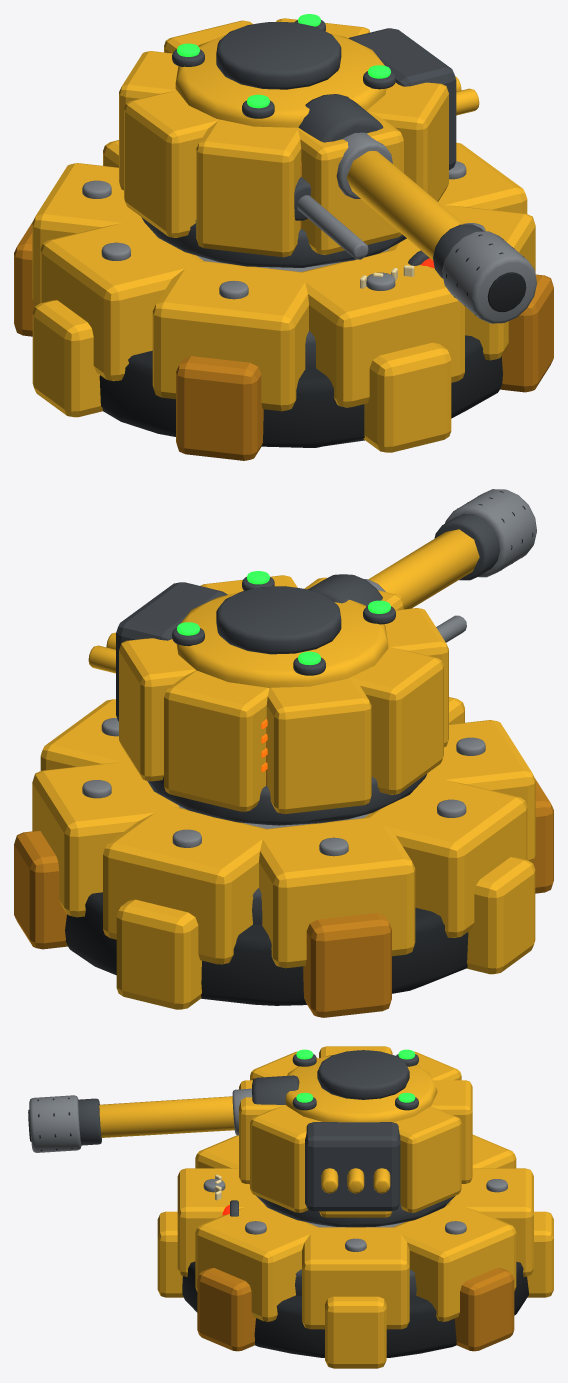
The model's file is ground-turret.glb.
3 views of the same model, one above another, from view 1: azimuth 30°, elevation 25°; view 2: azimuth 150°, elevation 25°; view 3: azimuth 270°, elevation 25° (orthographic). The views are drawn at different scales.
Parts seen in each view (by area): view 1: BaseArmor_01, BaseArmor_00, BaseArmor_02, TurretArmor_01, Base_Foundation, TurretArmor_02, BaseFoot_01, BaseFoot_00, Turret_Roof, Commander_Hatch, BaseFoot_02, TurretArmor_00 (+17 smaller); view 2: BaseArmor_03, BaseArmor_04, BaseArmor_02, TurretArmor_03, TurretArmor_04, Base_Foundation, BaseArmor_05, TurretArmor_02, Turret_Roof, BaseFoot_03, BaseFoot_04, Commander_Hatch (+14 smaller); view 3: BaseArmor_06, BaseArmor_05, BaseArmor_07, AmmoPod, Base_Foundation, TurretArmor_05, TurretArmor_07, Gun_Barrel, BaseFoot_06, Turret_Roof, BaseArmor_04, BaseFoot_05 (+18 smaller).
Boxes of the visible parts, bbox=[...] form: BaseArmor_01: bbox=[152, 261, 308, 411]; BaseArmor_00: bbox=[295, 250, 464, 407]; BaseArmor_02: bbox=[40, 219, 203, 381]; TurretArmor_01: bbox=[196, 119, 301, 257]; Base_Foundation: bbox=[99, 335, 502, 447]; TurretArmor_02: bbox=[124, 90, 218, 237]; BaseFoot_01: bbox=[176, 356, 263, 460]; BaseFoot_00: bbox=[363, 342, 451, 452]; Turret_Roof: bbox=[175, 33, 386, 127]; Commander_Hatch: bbox=[216, 22, 341, 89]; BaseFoot_02: bbox=[32, 300, 102, 417]; TurretArmor_00: bbox=[296, 110, 403, 254]; BaseArmor_03: bbox=[258, 818, 415, 968]; BaseArmor_04: bbox=[103, 806, 272, 964]; BaseArmor_02: bbox=[364, 775, 527, 937]; TurretArmor_03: bbox=[266, 677, 371, 813]; TurretArmor_04: bbox=[164, 670, 269, 811]; Base_Foundation: bbox=[65, 892, 468, 1005]; BaseArmor_05: bbox=[32, 761, 179, 917]; TurretArmor_02: bbox=[350, 647, 443, 794]; Turret_Roof: bbox=[176, 592, 388, 688]; BaseFoot_03: bbox=[303, 913, 391, 1017]; BaseFoot_04: bbox=[116, 899, 201, 1009]; Commander_Hatch: bbox=[216, 586, 341, 654]; BaseArmor_06: bbox=[302, 1227, 409, 1329]; BaseArmor_05: bbox=[391, 1202, 516, 1321]; BaseArmor_07: bbox=[195, 1202, 318, 1321]; AmmoPod: bbox=[305, 1122, 400, 1211]; Base_Foundation: bbox=[182, 1261, 528, 1357]; TurretArmor_05: bbox=[393, 1106, 461, 1212]; TurretArmor_07: bbox=[250, 1105, 321, 1212]; Gun_Barrel: bbox=[99, 1096, 234, 1137]; BaseFoot_06: bbox=[325, 1296, 386, 1368]; Turret_Roof: bbox=[285, 1055, 437, 1122]; BaseArmor_04: bbox=[447, 1168, 533, 1276]; BaseFoot_05: bbox=[454, 1268, 514, 1351].
Bounding box in the file's own units: 2.58 × 1.58 × 3.52.
